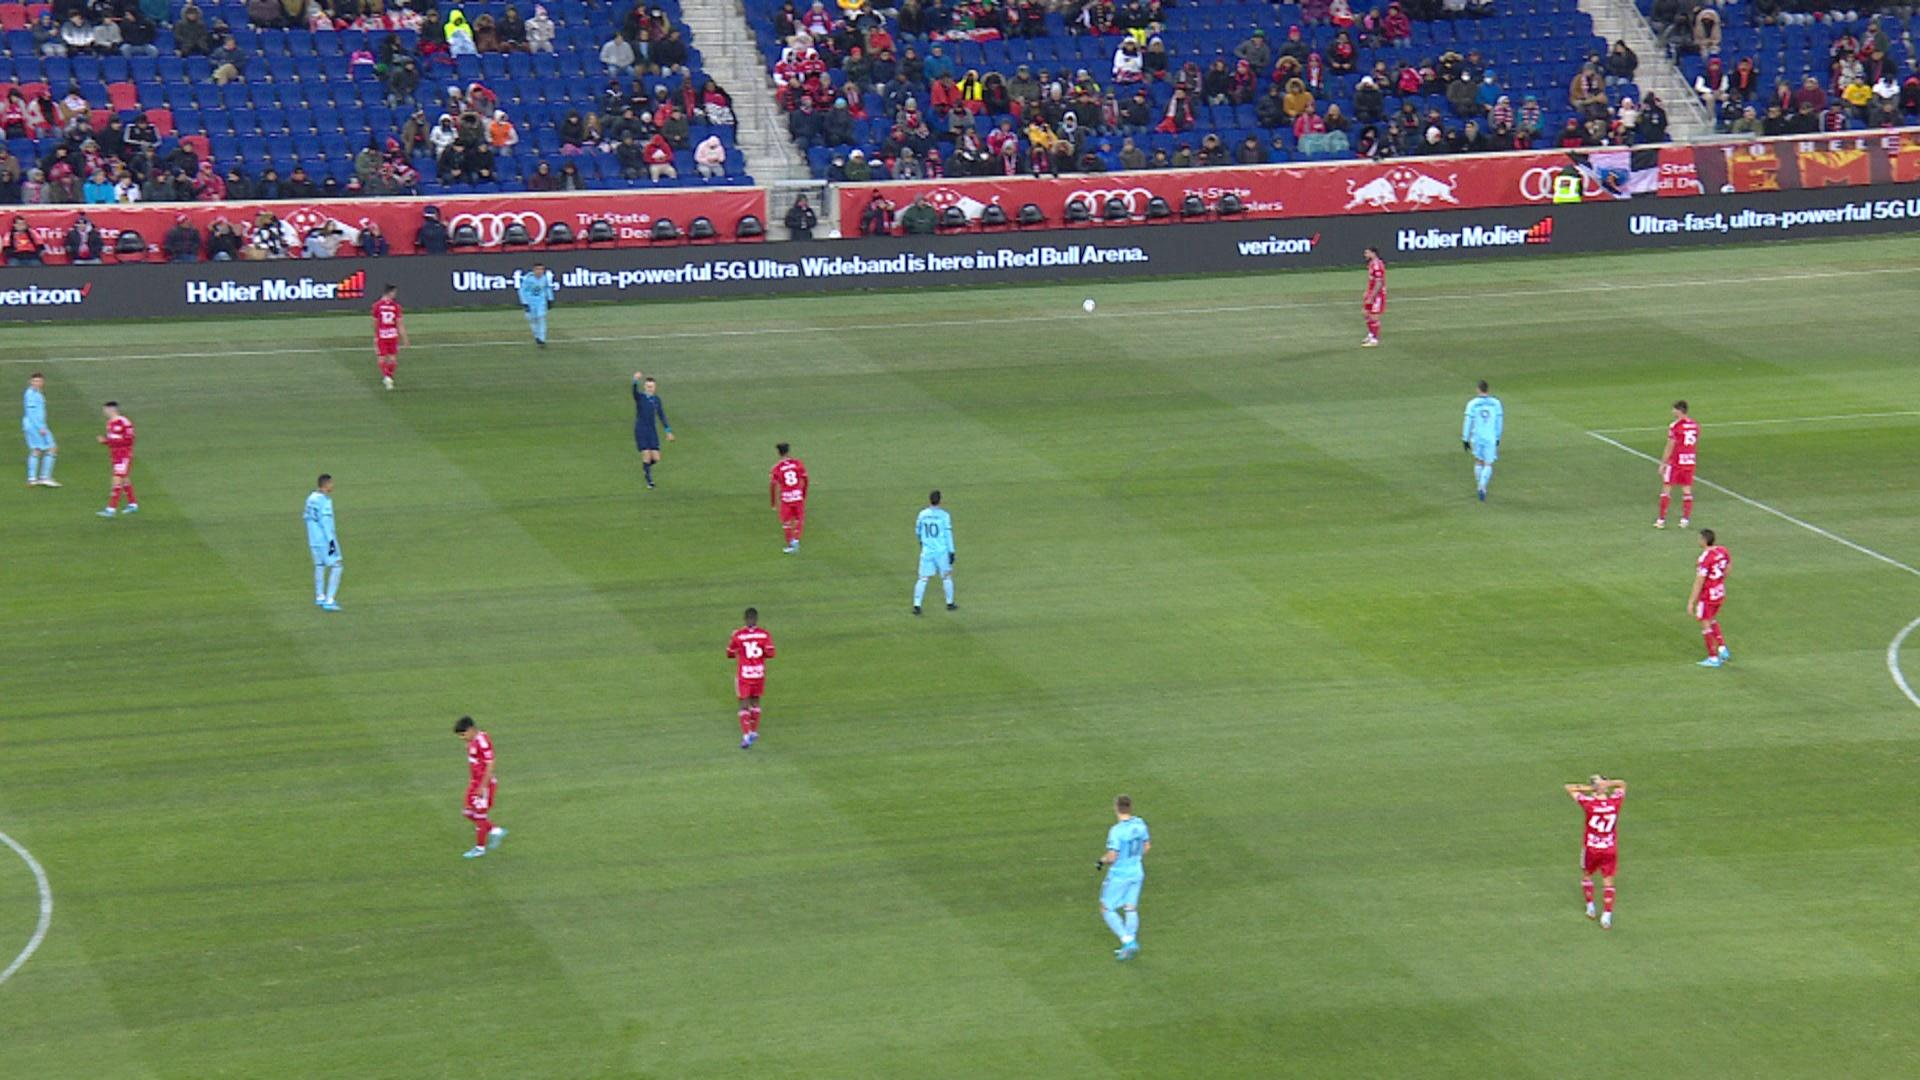football: (1082, 299, 1097, 313)
